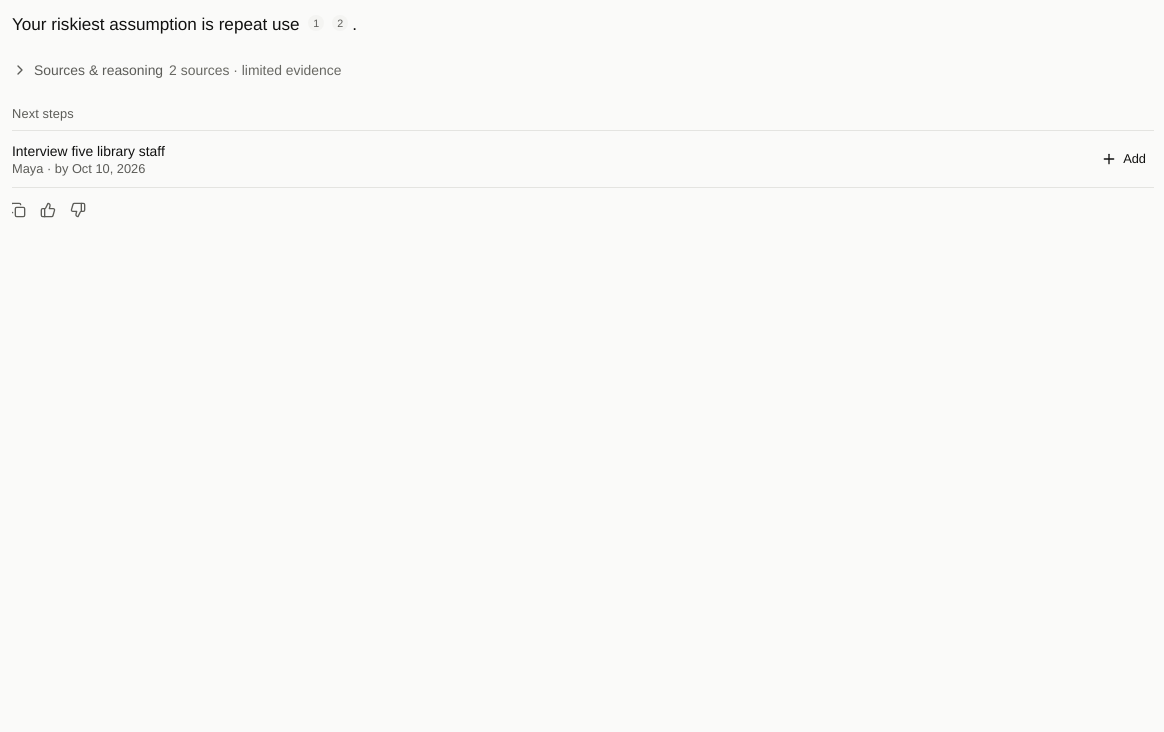
Test: VeirAnswer › reads as a conversation: no "Limited evidence" quote, grouped keys as quiet citations
Check: the button named "Source 1: " reads "1", box x1=308 y1=14 x2=324 y2=30
Check: the button named "Source 2: " reads "2", box x1=332 y1=14 x2=348 y2=30
Click the button "Sources & reasoning 2 sources · limited evidence" at (180, 70), box x1=12 y1=54 x2=348 y2=86
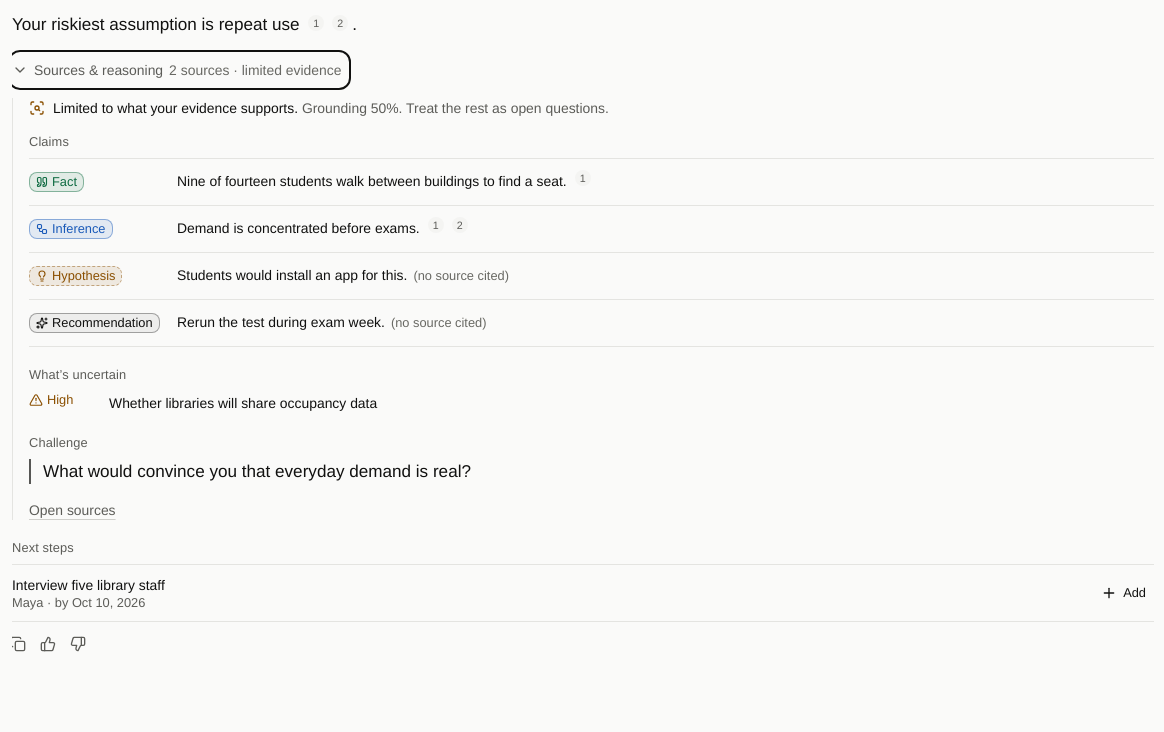
Check: the element with test id "narrowed-banner" shows "Limited to what your evidence supports.", box x1=53 y1=100 x2=298 y2=116
